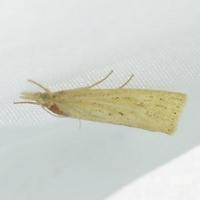insect: (14, 70, 186, 134)
